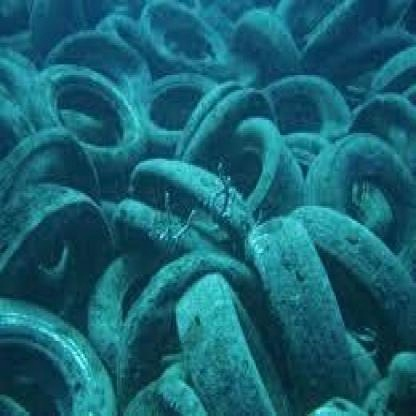tire: (285, 218, 416, 380), (58, 238, 195, 392), (17, 178, 134, 317), (326, 118, 416, 296), (41, 73, 172, 195), (182, 88, 293, 210), (142, 238, 250, 343), (268, 41, 350, 146), (138, 56, 212, 148)
